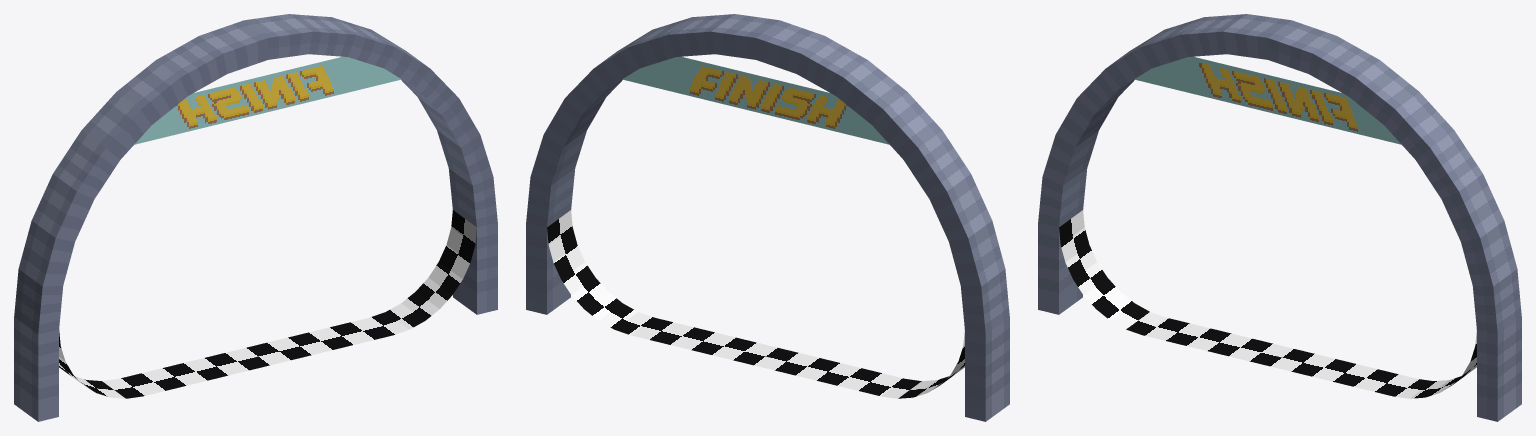
File: finish_line.glb
The picture shows the model from 3 angles, left to right: view 1: azimuth 30°, elevation 25°; view 2: azimuth 150°, elevation 25°; view 3: azimuth 330°, elevation 25°; orthographic projection.
Visible parts, largest first — view 1: finish, sign; view 2: finish, sign; view 3: finish, sign.
Boxes of the visible parts, x1=… form: finish: x1=14, y1=14, x2=497, y2=421; sign: x1=134, y1=56, x2=401, y2=144; finish: x1=526, y1=14, x2=1009, y2=421; sign: x1=622, y1=56, x2=889, y2=144; finish: x1=1038, y1=14, x2=1521, y2=421; sign: x1=1134, y1=56, x2=1401, y2=144.
Bounding box in the file's own units: 11 × 7.5 × 1.
Materials: 2 (2 with a texture image).
